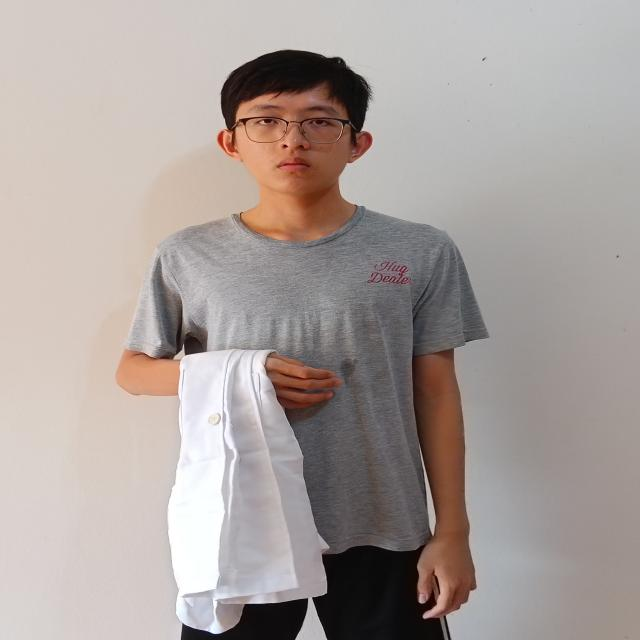person_without_labcoat: (118, 51, 487, 640)
